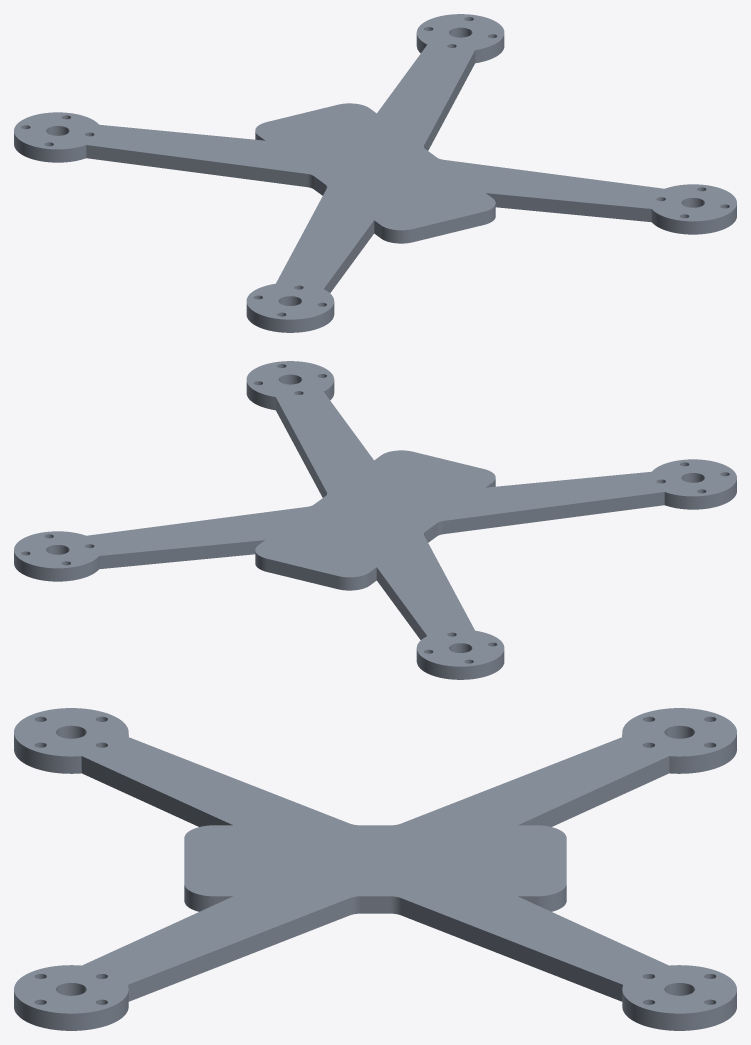
The model's file is step-2.glb.
The picture shows the model from 3 angles, top to bottom: view 1: azimuth 30°, elevation 25°; view 2: azimuth 150°, elevation 25°; view 3: azimuth 270°, elevation 25°; orthographic projection. The views are drawn at different scales.
Visible parts, largest first — view 1: face_e47f10b6155842d671e5, face_1eca755a6b4b61118afb, face_26f04b5ba8c4c64ad49c, face_4f3c9539508e3cad428e, face_9bbac5e47ae6c59cab32, face_721785cbc0f2ac752816, face_30252e9dc4903821870c, face_97546d7d8c22b6db1eca, face_203e33fe93fe7c0330a2, face_a346b2020efb87b89e30; view 2: face_e47f10b6155842d671e5, face_c32ef5f191d23a5f25ee, face_328ebcda5ebc6377554e, face_721785cbc0f2ac752816, face_a346b2020efb87b89e30, face_4f3c9539508e3cad428e, face_7ceab784dc5cdd2fa632, face_104e0ba5e9348109e449, face_d9580afbd3a582c25e43, face_9bbac5e47ae6c59cab32; view 3: face_e47f10b6155842d671e5, face_104e0ba5e9348109e449, face_97546d7d8c22b6db1eca, face_203e33fe93fe7c0330a2, face_d9580afbd3a582c25e43, face_9bbac5e47ae6c59cab32, face_a346b2020efb87b89e30, face_4f3c9539508e3cad428e, face_721785cbc0f2ac752816, face_6648624dcd30c89af184.
Boxes of the visible parts, x1,y1,x2,y2 form: face_e47f10b6155842d671e5: (14,14,736,319); face_1eca755a6b4b61118afb: (86,145,307,186); face_26f04b5ba8c4c64ad49c: (486,193,651,222); face_4f3c9539508e3cad428e: (246,302,334,332); face_9bbac5e47ae6c59cab32: (651,204,736,234); face_721785cbc0f2ac752816: (14,133,86,162); face_30252e9dc4903821870c: (413,212,483,242); face_97546d7d8c22b6db1eca: (424,50,475,150); face_203e33fe93fe7c0330a2: (324,220,374,292); face_a346b2020efb87b89e30: (416,33,504,63); face_e47f10b6155842d671e5: (14,361,736,666); face_c32ef5f191d23a5f25ee: (443,492,664,533); face_328ebcda5ebc6377554e: (99,540,264,569); face_721785cbc0f2ac752816: (416,649,504,679); face_a346b2020efb87b89e30: (14,551,99,581); face_4f3c9539508e3cad428e: (664,480,736,509); face_7ceab784dc5cdd2fa632: (267,559,337,589); face_104e0ba5e9348109e449: (275,397,326,497); face_d9580afbd3a582c25e43: (376,567,426,639); face_9bbac5e47ae6c59cab32: (246,380,334,410); face_e47f10b6155842d671e5: (14,708,736,1013); face_104e0ba5e9348109e449: (128,898,349,1001); face_97546d7d8c22b6db1eca: (401,898,622,1001); face_203e33fe93fe7c0330a2: (81,756,232,826); face_d9580afbd3a582c25e43: (518,756,669,826); face_9bbac5e47ae6c59cab32: (14,991,128,1030); face_a346b2020efb87b89e30: (622,991,736,1030); face_4f3c9539508e3cad428e: (14,734,128,773); face_721785cbc0f2ac752816: (622,734,736,773); face_6648624dcd30c89af184: (360,896,390,913).
Bounding box in the file's own units: 0.1891 × 0.005 × 0.1891.
